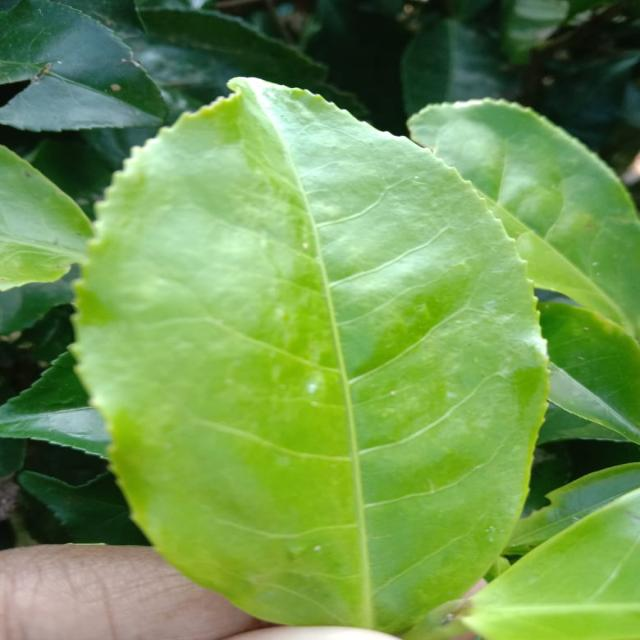Category B(2-4 days): (62, 65, 560, 636)
